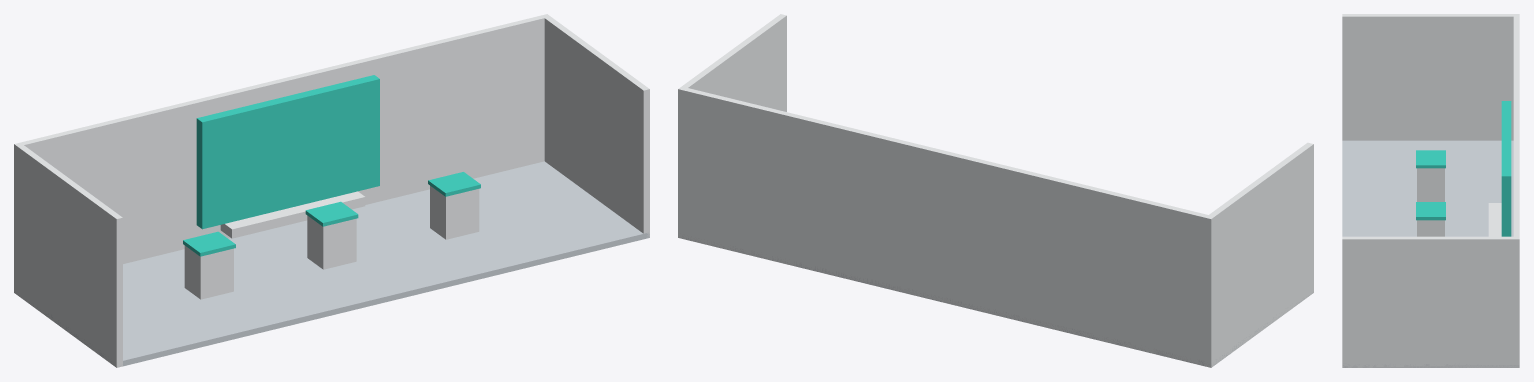
3 renders of one model, left to right at view 1: azimuth 30°, elevation 25°; view 2: azimuth 150°, elevation 25°; view 3: azimuth 270°, elevation 25°, orthographic. The views are drawn at different scales.
Parts seen in each view (by area): view 1: Exhibition Booth Concept; view 2: Exhibition Booth Concept; view 3: Exhibition Booth Concept.
Boxes of the visible parts, box(x1,y1,x2,y2) form: Exhibition Booth Concept: box(14, 14, 649, 367); Exhibition Booth Concept: box(678, 14, 1313, 367); Exhibition Booth Concept: box(1342, 14, 1519, 367).
Bounding box in the file's own units: 12 × 3.2 × 4.
